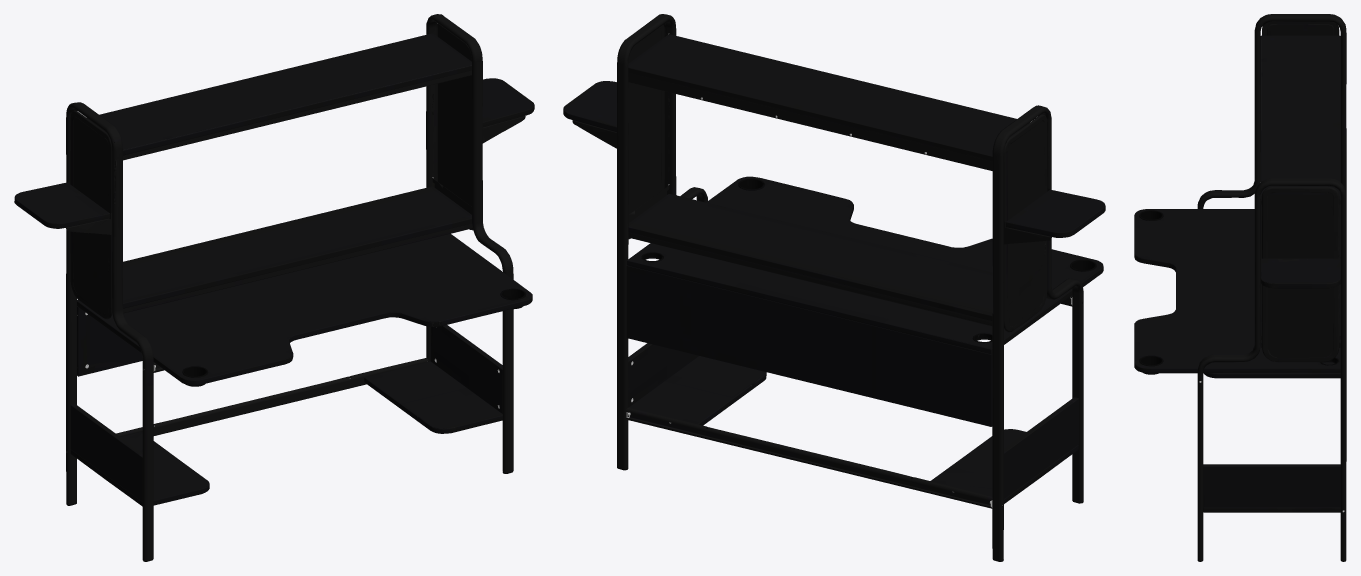
The model's file is 72 - FREDDE - 電競桌, 黑色, 140185x74x146 公分 IKEA 線上購物.glb.
3 renders of one model, left to right at view 1: azimuth 30°, elevation 25°; view 2: azimuth 150°, elevation 25°; view 3: azimuth 270°, elevation 25°, orthographic. The views are drawn at different scales.
Parts seen in each view (by area): view 1: model; view 2: model; view 3: model.
Boxes of the visible parts, box(x1,y1,x2,y2) form: model: box(14, 14, 534, 561); model: box(563, 14, 1105, 561); model: box(1134, 14, 1346, 561).
Size of the model in its own units: 1.84 by 1.47 by 0.7412.
Materials: 1 (1 with a texture image).
